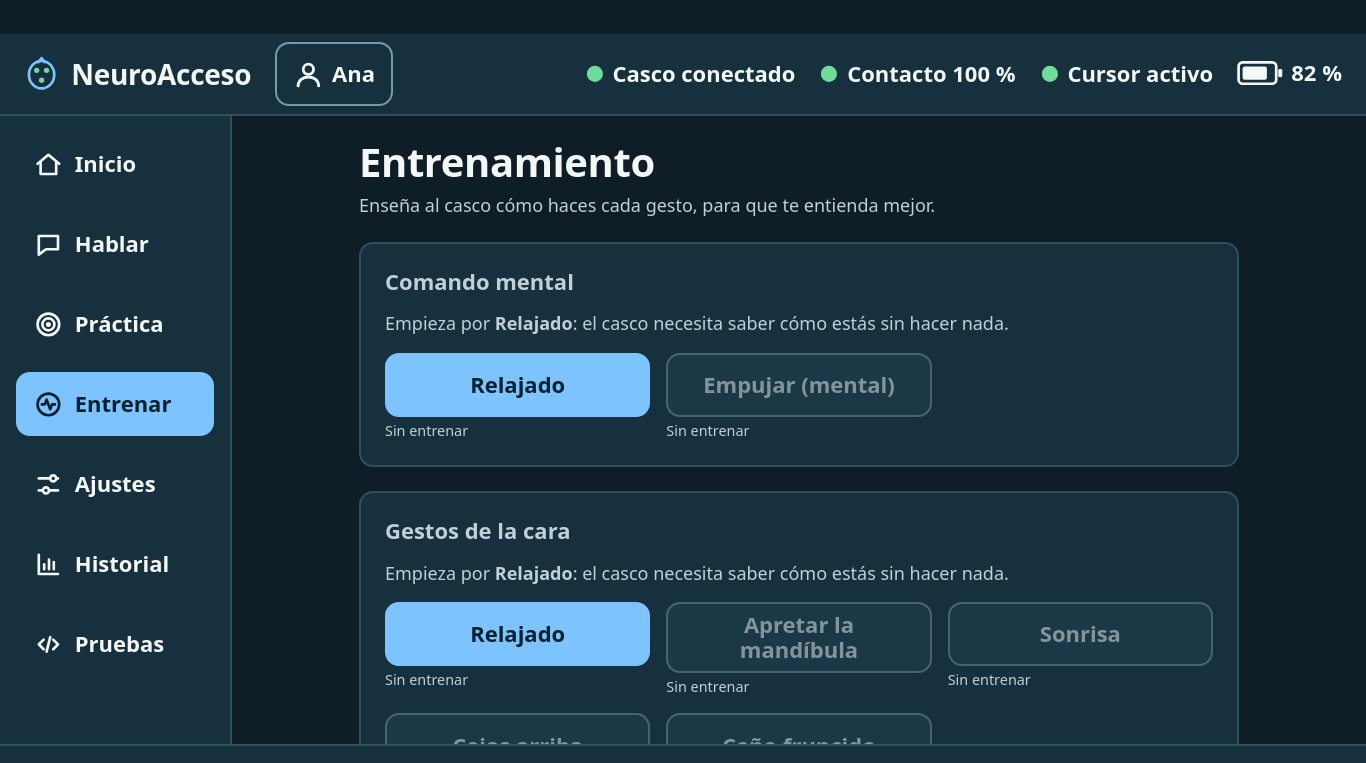
it: entrenamiento › Cancelar durante la toma devuelve el motor al cursor
The image size is (1366, 763).
(page scrolled)
What coordinates should you click on to do the following:
click the button "Relajado" below "Comando mental"
I would click on:
 (518, 385)
Its box is [385, 353, 650, 417].
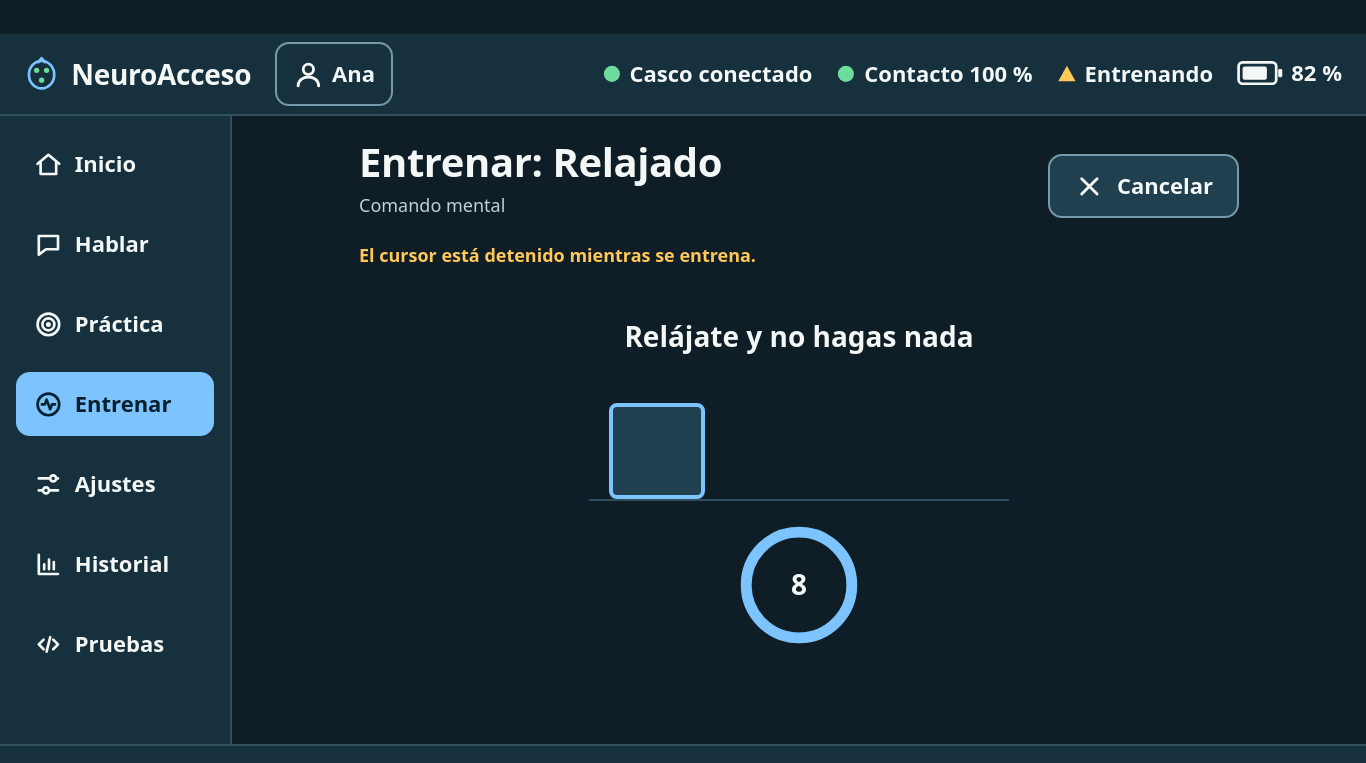
What coordinates should you click on to do the following:
click the button "Cancelar"
I would click on:
 (1144, 186)
Its box is [1048, 154, 1239, 218].
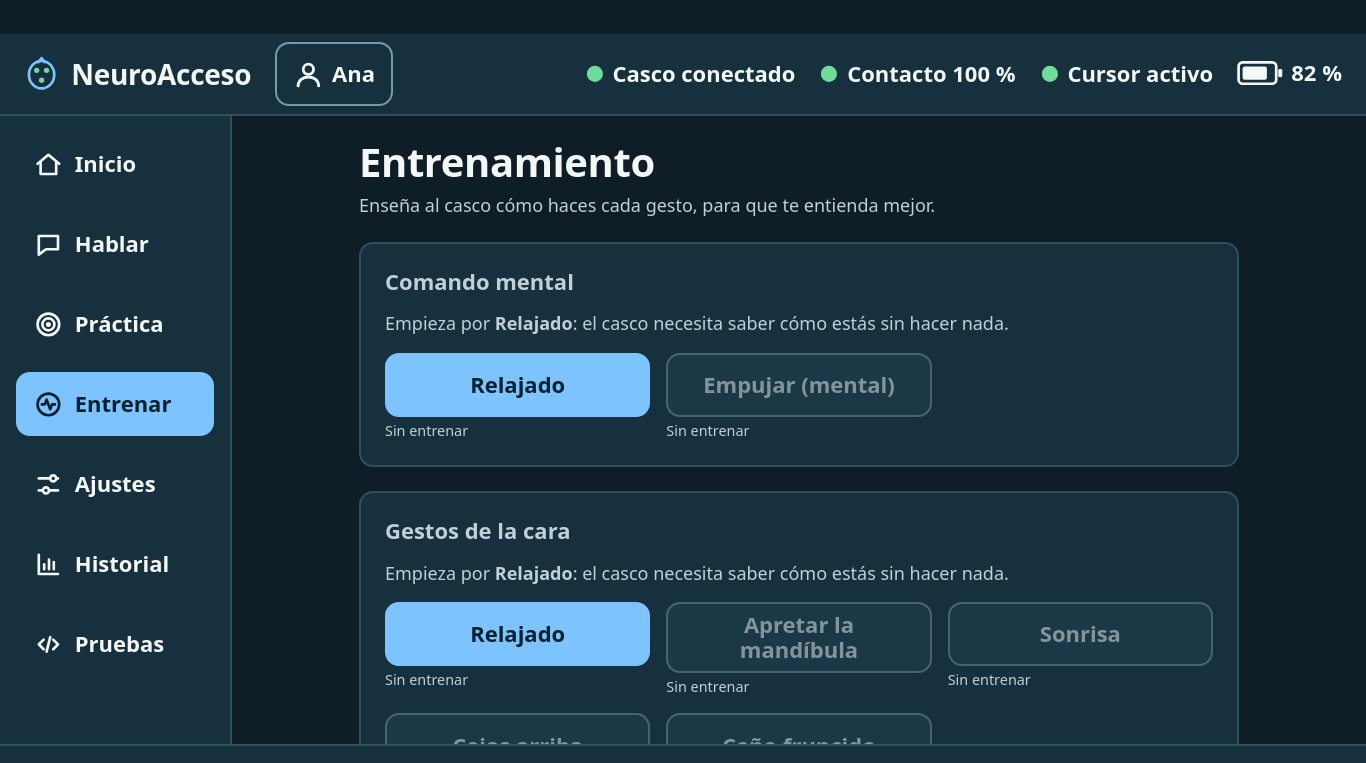
Now the heading "Entrenamiento" is shown, box [359, 134, 655, 189]
